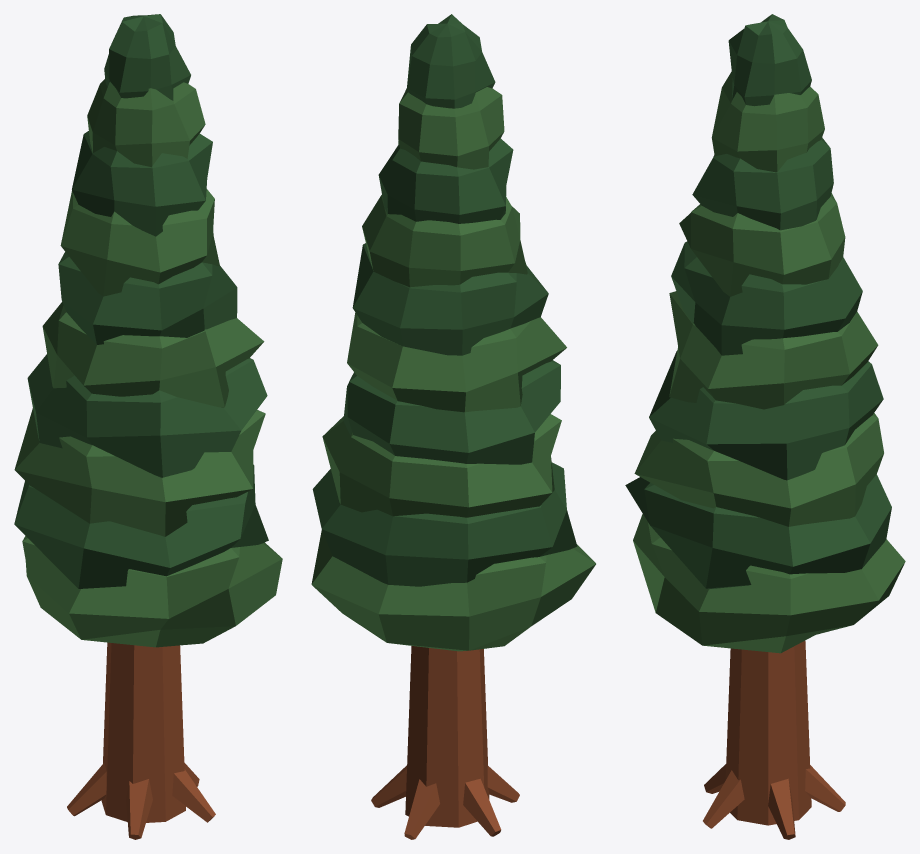
The model's file is tree_sequoia_medium.glb.
3 views of the same model, side by side, from view 1: azimuth 30°, elevation 25°; view 2: azimuth 150°, elevation 25°; view 3: azimuth 270°, elevation 25° (orthographic).
Visible parts, largest first — view 1: tree_sequoia_medium; view 2: tree_sequoia_medium; view 3: tree_sequoia_medium.
Part boxes in pixels (x1,y1,x2,y2): tree_sequoia_medium: [14, 14, 282, 839]; tree_sequoia_medium: [311, 14, 595, 839]; tree_sequoia_medium: [625, 14, 905, 839].
Bounding box in the file's own units: 3.07 × 9.69 × 3.12.
